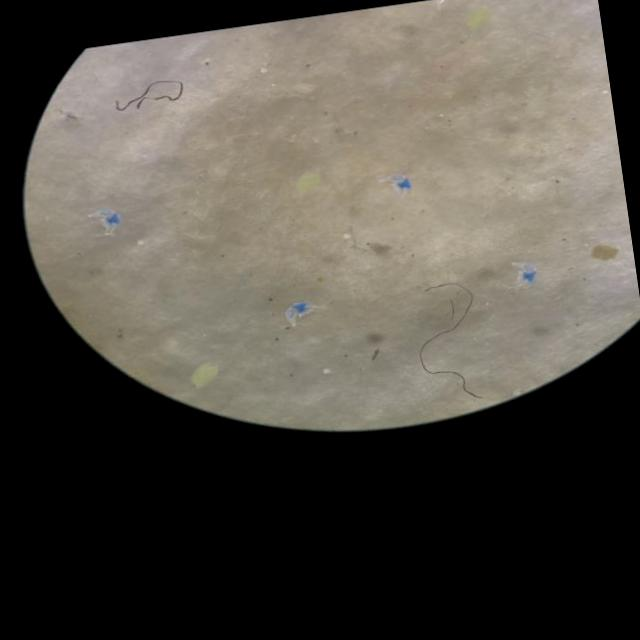fiber: (419, 285, 482, 400), (115, 80, 183, 112)
film: (513, 264, 537, 283), (285, 301, 316, 311)
fragment: (191, 364, 217, 386), (467, 8, 491, 29), (297, 173, 319, 193), (592, 245, 617, 261)
pellet: (136, 240, 145, 246), (261, 68, 268, 74), (323, 368, 329, 374), (344, 234, 350, 239)
